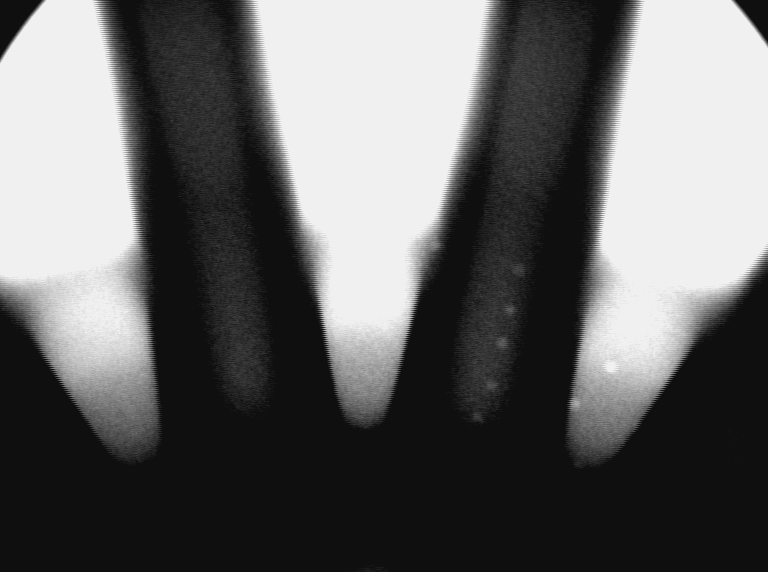defect: (425, 236, 446, 256)
